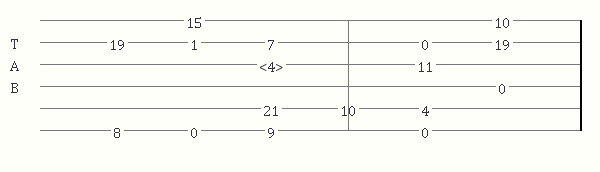0: (190, 123, 202, 137), (421, 35, 433, 49), (421, 123, 433, 137), (498, 79, 510, 93)
1: (190, 35, 202, 49)
10: (340, 101, 360, 115), (494, 13, 514, 27)
11: (417, 57, 437, 71)
15: (186, 13, 206, 28)
19: (109, 35, 129, 49), (494, 35, 514, 49)
21: (263, 101, 283, 115)
4: (421, 101, 433, 115)
7: (267, 35, 279, 49)
8: (113, 123, 125, 137)
9: (267, 123, 279, 137)
harmonic: (259, 57, 287, 71)
